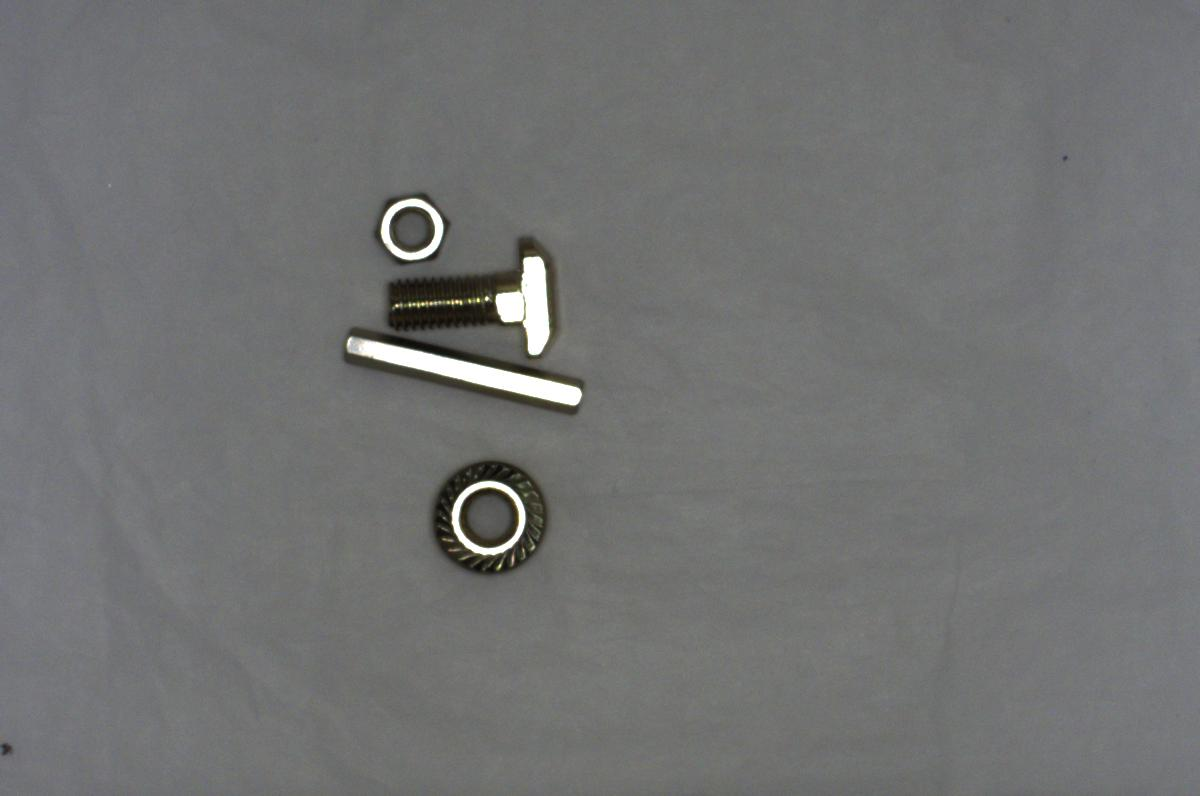Double hexagonal column: (334, 323, 593, 414)
Flange nut: (422, 449, 557, 582)
Hexagon nut: (362, 185, 458, 261)
T-shaped screw: (384, 238, 568, 368)
